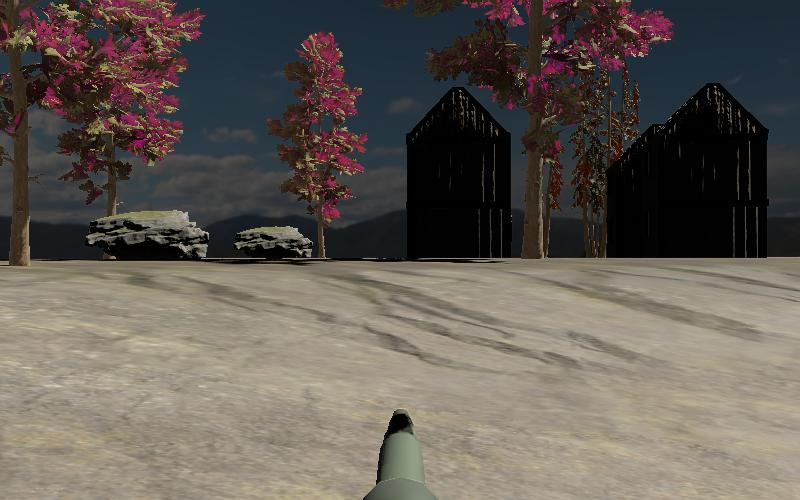House: (605, 83, 770, 260), (406, 86, 513, 259)
